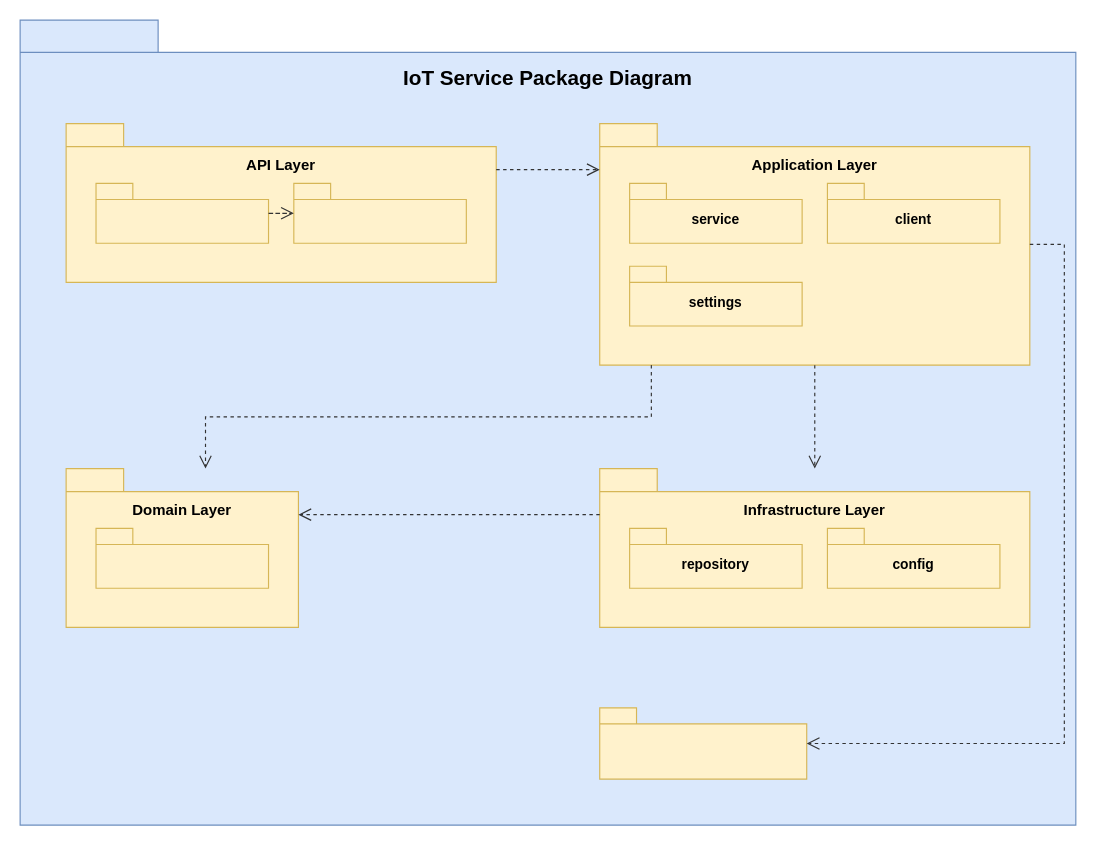
The diagram is 1097 pixels wide and 845 high, and some of its shapes have lost their labels. Here are the shapes that lost their labels. From the top down, the centre of each, then its label:
the point at 182,212: controller
the point at 379,212: dto
the point at 182,557: model
the point at 703,743: common-lib
